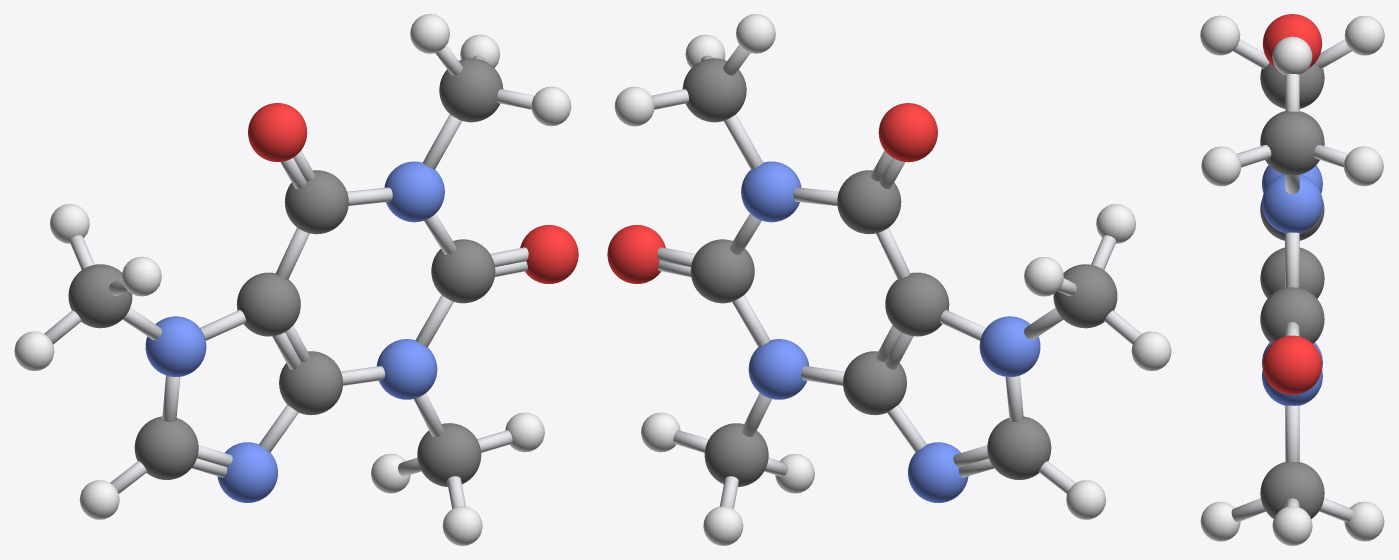
File: molecule-caffeine.glb
The picture shows the model from 3 angles, left to right: view 1: azimuth 30°, elevation 25°; view 2: azimuth 150°, elevation 25°; view 3: azimuth 270°, elevation 25°; orthographic projection.
Visible parts, largest first — view 1: bonds, carbon_1, carbon_5, carbon_4, carbon_8, carbon_3, carbon_2, carbon_6, carbon_7, nitrogen_3, nitrogen_1, nitrogen_2 (+13 smaller); view 2: bonds, carbon_1, carbon_5, carbon_4, carbon_8, carbon_3, carbon_2, carbon_6, carbon_7, nitrogen_1, nitrogen_3, nitrogen_2 (+13 smaller); view 3: bonds, carbon_8, oxygen_2, nitrogen_3, carbon_6, carbon_4, carbon_5, carbon_7, oxygen_1, hydrogen_10, hydrogen_9, hydrogen_3 (+8 smaller).
Part boxes in pixels (bbox=[...]): bonds: bbox=[44, 45, 534, 508]; carbon_1: bbox=[236, 272, 300, 336]; carbon_5: bbox=[134, 416, 198, 479]; carbon_4: bbox=[431, 239, 495, 303]; carbon_8: bbox=[439, 58, 503, 122]; carbon_3: bbox=[284, 170, 348, 234]; carbon_2: bbox=[279, 351, 342, 415]; carbon_6: bbox=[417, 423, 481, 486]; carbon_7: bbox=[68, 264, 132, 328]; nitrogen_3: bbox=[384, 161, 444, 222]; nitrogen_1: bbox=[376, 339, 437, 399]; nitrogen_2: bbox=[145, 316, 206, 376]; bonds: bbox=[651, 45, 1141, 508]; carbon_1: bbox=[885, 272, 949, 336]; carbon_5: bbox=[987, 416, 1051, 479]; carbon_4: bbox=[690, 239, 754, 303]; carbon_8: bbox=[682, 58, 746, 122]; carbon_3: bbox=[837, 170, 901, 234]; carbon_2: bbox=[843, 351, 906, 415]; carbon_6: bbox=[704, 423, 768, 486]; carbon_7: bbox=[1053, 264, 1117, 328]; nitrogen_1: bbox=[748, 339, 809, 399]; nitrogen_3: bbox=[741, 161, 801, 222]; nitrogen_2: bbox=[979, 316, 1040, 376]; bonds: bbox=[1231, 39, 1353, 522]; carbon_8: bbox=[1260, 111, 1324, 175]; oxygen_2: bbox=[1262, 335, 1321, 394]; nitrogen_3: bbox=[1262, 174, 1322, 232]; carbon_6: bbox=[1260, 462, 1324, 518]; carbon_4: bbox=[1260, 287, 1324, 343]; carbon_5: bbox=[1260, 247, 1324, 298]; carbon_7: bbox=[1260, 62, 1324, 108]; oxygen_1: bbox=[1262, 14, 1322, 68]; hydrogen_10: bbox=[1201, 146, 1241, 186]; hydrogen_9: bbox=[1343, 146, 1383, 186]; hydrogen_3: bbox=[1272, 506, 1312, 545].
Size of the model in its own units: 0.2152 by 0.1849 by 0.0616.
